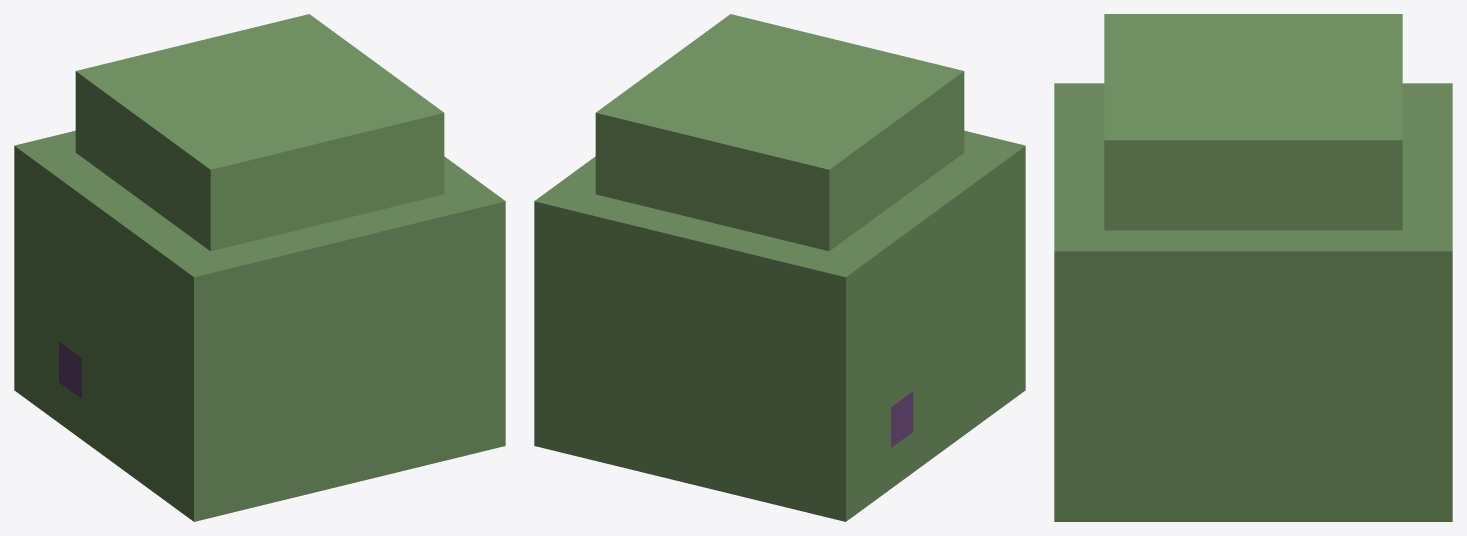
File: mora_02.glb
3 views of the same model, side by side, from view 1: azimuth 30°, elevation 25°; view 2: azimuth 150°, elevation 25°; view 3: azimuth 270°, elevation 25° (orthographic). The views are drawn at different scales.
Parts seen in each view (by area): view 1: mora_02; view 2: mora_02; view 3: mora_02.
Boxes of the visible parts, <box> form: mora_02: <box>14,14,505,521</box>; mora_02: <box>534,14,1025,521</box>; mora_02: <box>1054,14,1452,521</box>.
Bounding box in the file's own units: 0.8 × 0.8 × 0.8.
